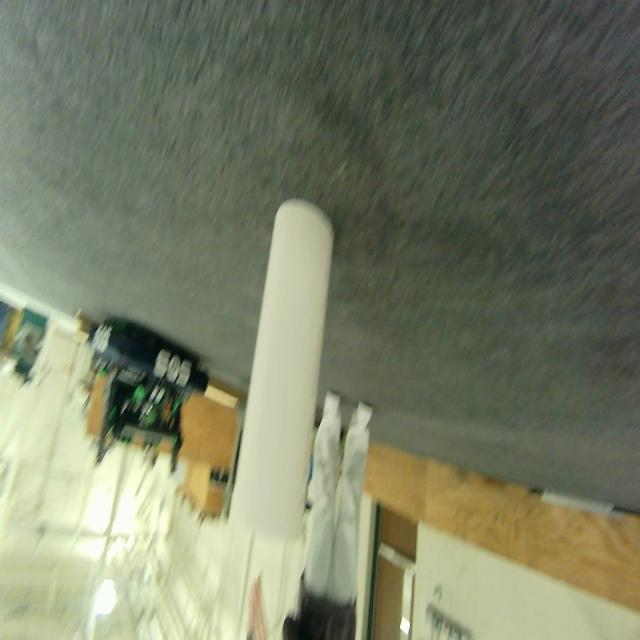coral: (229, 200, 333, 541)
